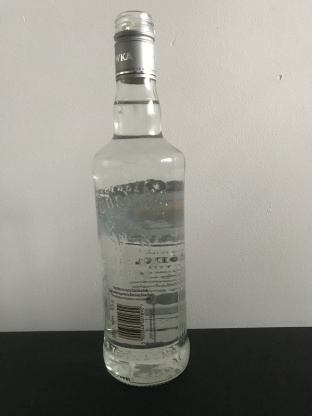nakretka: (112, 10, 157, 84)
